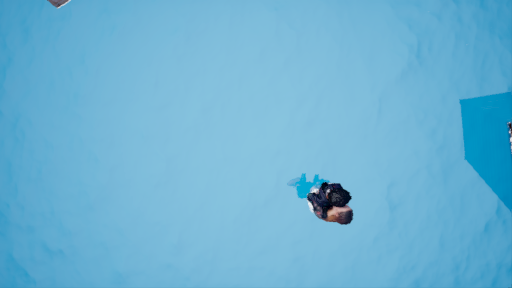person: (290, 171, 355, 231)
